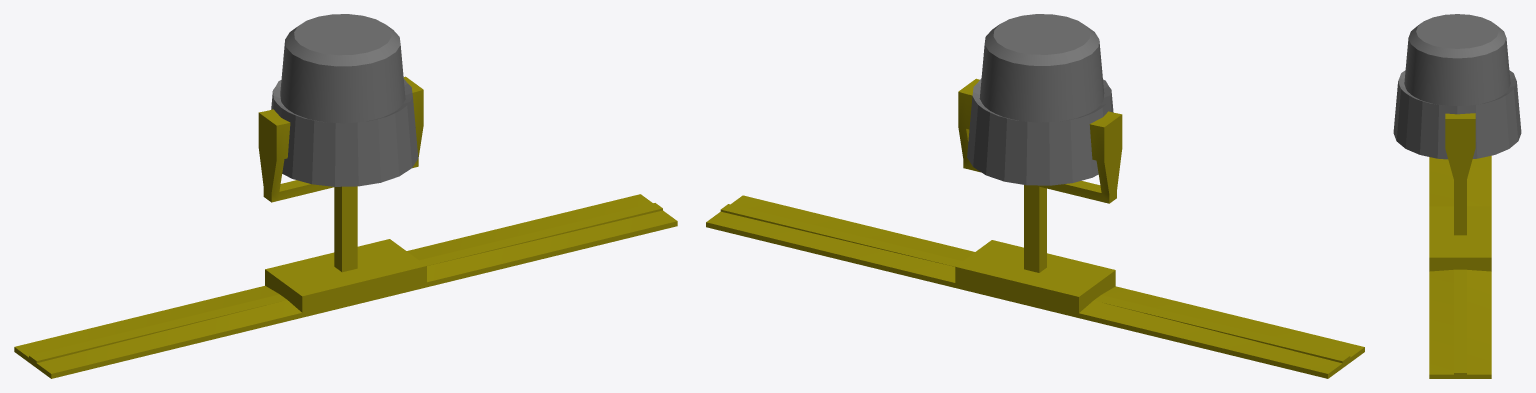
The model's file is Iron_Refinery.fbx.
3 views of the same model, side by side, from view 1: azimuth 30°, elevation 25°; view 2: azimuth 150°, elevation 25°; view 3: azimuth 270°, elevation 25° (orthographic). The views are drawn at different scales.
Parts seen in each view (by area): view 1: pCube2, pCylinder1; view 2: pCube2, pCylinder1; view 3: pCube2, pCylinder1.
Part boxes in pixels (left/top/right/bottom): pCube2: left=14, top=76, right=677, bottom=378; pCylinder1: left=271, top=14, right=418, bottom=186; pCube2: left=706, top=78, right=1364, bottom=378; pCylinder1: left=967, top=14, right=1113, bottom=185; pCube2: left=1429, top=113, right=1491, bottom=378; pCylinder1: left=1393, top=14, right=1521, bottom=159.
Size of the model in its own units: 10.53 by 4.13 by 2.21.
